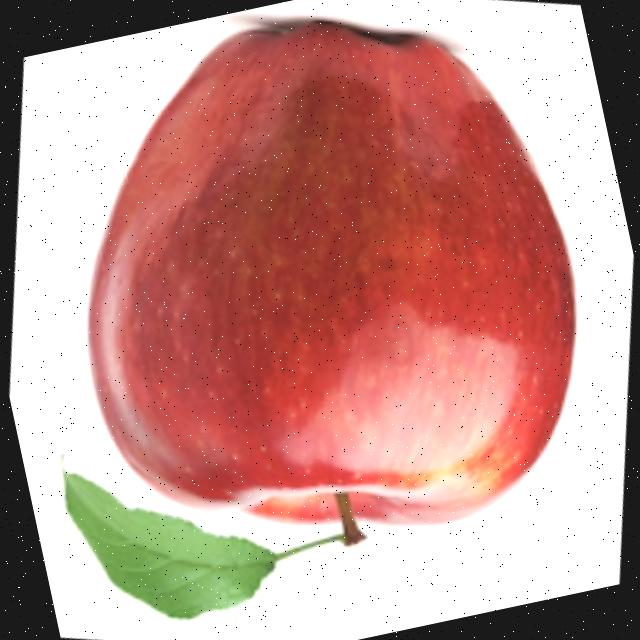Ripe: (15, 0, 630, 597)
